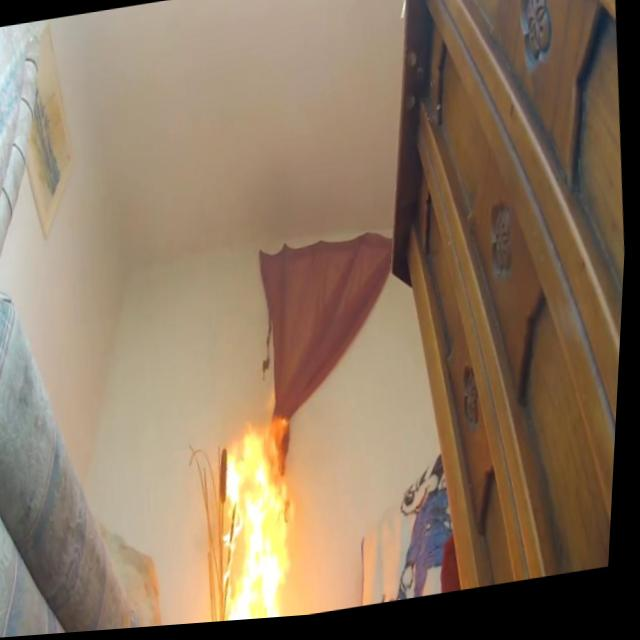fire: (208, 416, 316, 626)
